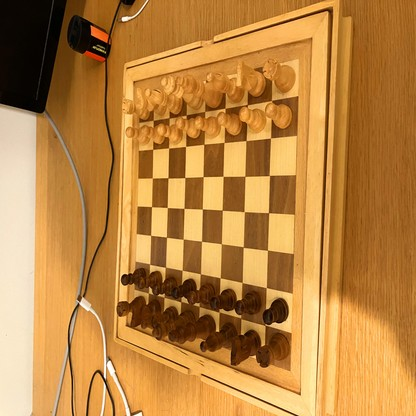bishop_black: (201, 323, 236, 351), (141, 308, 178, 330)
bishop_white: (207, 74, 245, 102), (147, 88, 183, 113)
king_black: (169, 315, 216, 344)
king_white: (177, 76, 223, 106)
knight_black: (231, 331, 261, 364), (131, 300, 162, 328)
knight_white: (237, 59, 265, 96), (135, 88, 166, 114)
pawn_black: (236, 293, 262, 316), (211, 288, 237, 311), (265, 299, 288, 323), (188, 283, 213, 304), (172, 280, 197, 299), (139, 272, 162, 291), (121, 269, 146, 286), (154, 277, 177, 295)
pawn_white: (239, 107, 267, 131), (266, 103, 292, 127), (194, 116, 221, 138), (218, 113, 242, 135), (177, 117, 201, 139), (142, 125, 165, 145), (159, 124, 183, 143), (126, 127, 150, 145)
queen_black: (153, 311, 195, 341)
queen_white: (161, 77, 202, 110)
rock_black: (256, 334, 289, 367), (117, 296, 146, 316)
rock_white: (262, 59, 296, 95), (122, 97, 148, 120)
